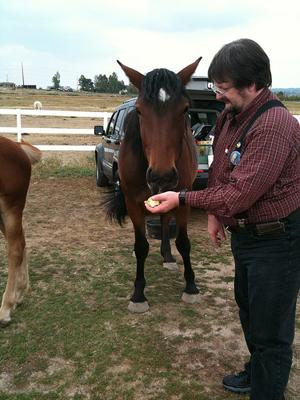person: (145, 39, 300, 398)
